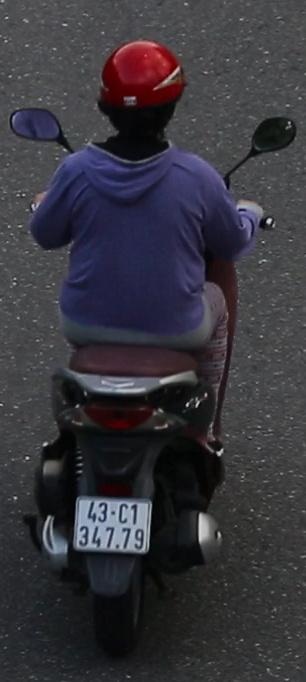LP: (65, 489, 158, 559)
helmet: (93, 36, 198, 176)
